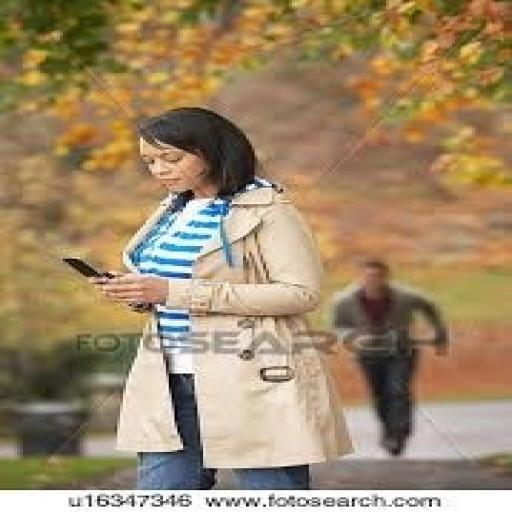calling: (83, 104, 355, 490), (323, 259, 452, 457)
